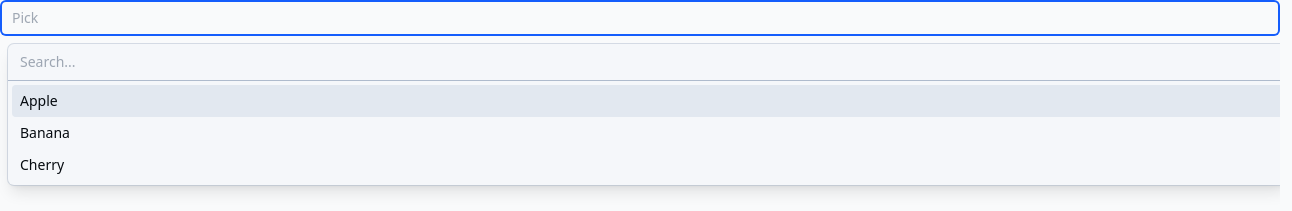
SelectMenu › dropdown interaction › should select item on click
Click the option "Banana". click: click(45, 132)
box: [20,123,70,142]
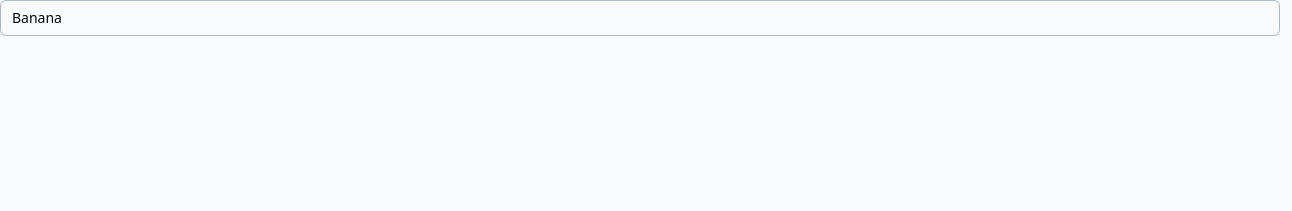
Expected: the text "Banana" is shown, [12,8,62,28]
